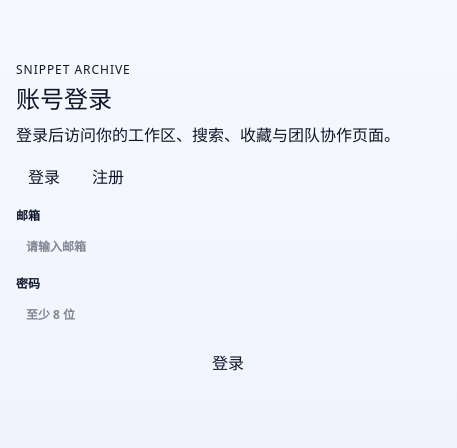
Test case: LoginPage › shows visible disabled reason in register mode when form is incomplete
Click the button with test id "login-mode-register".
click(108, 177)  # box [80, 159, 136, 195]
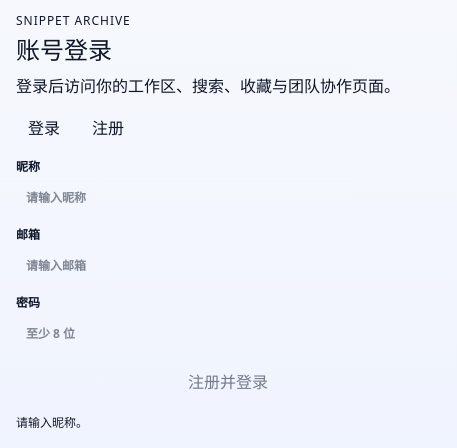
Now the button with test id "register-submit" is disabled, box [16, 362, 440, 402]
Now the text with test id "register-disabled-reason" shows "请输入昵称", box [16, 414, 88, 431]
